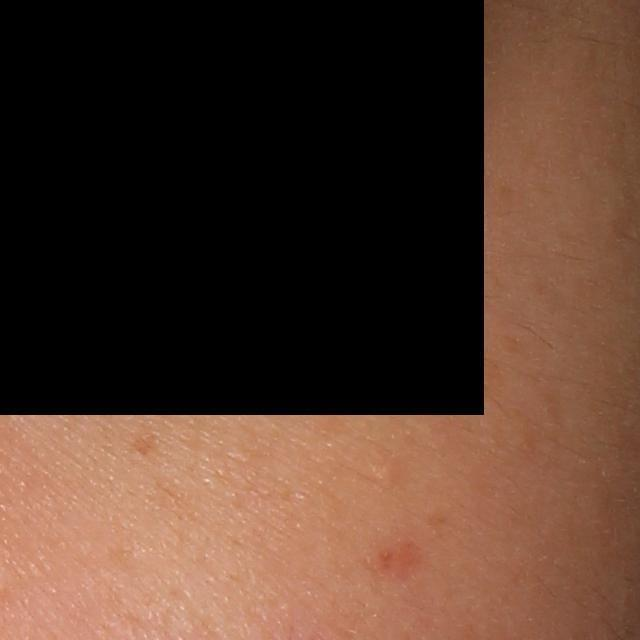melasma: (128, 429, 163, 459)
